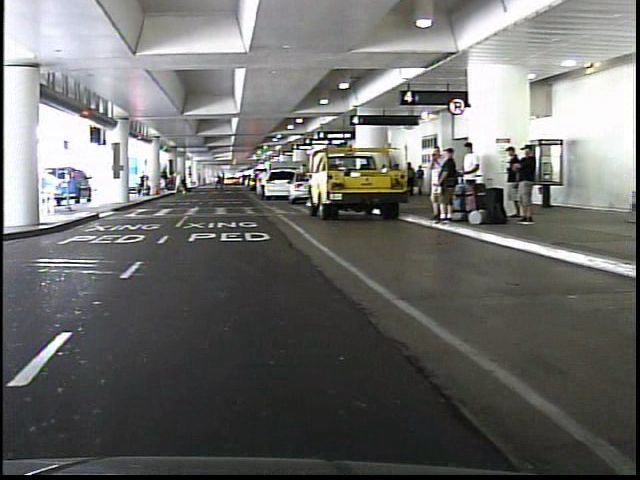person: (512, 144, 531, 227), (419, 144, 439, 218), (166, 165, 181, 199), (252, 165, 267, 193)
